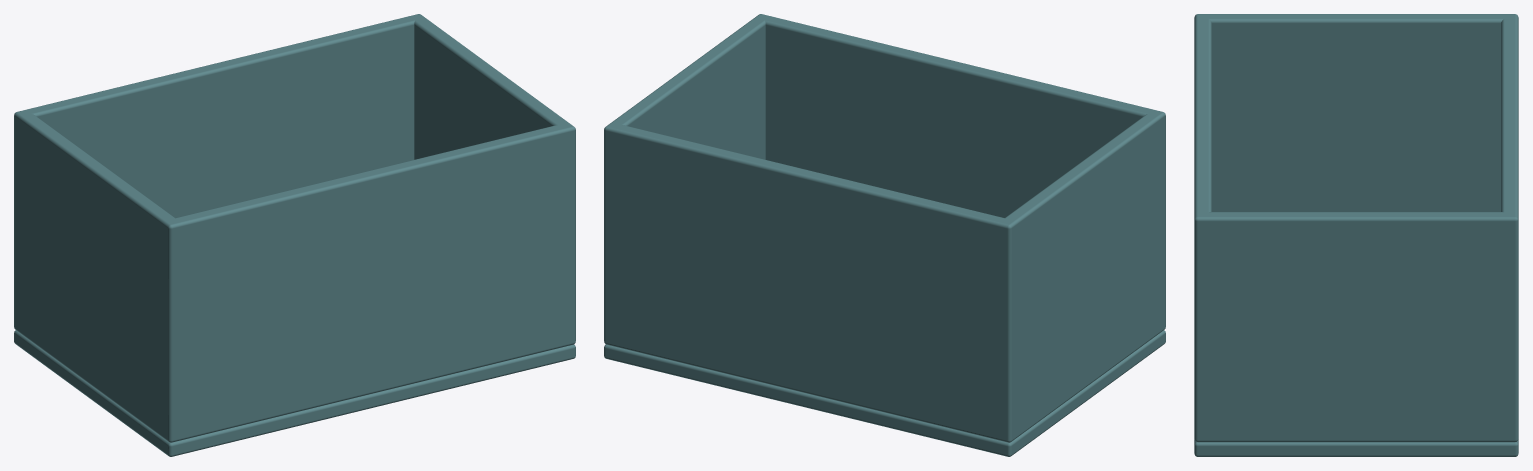
Rendered from candlemaking-and-soap-workshop-offcut-collection-bin-f06807dc__30687.glb.
The picture shows the model from 3 angles, left to right: view 1: azimuth 30°, elevation 25°; view 2: azimuth 150°, elevation 25°; view 3: azimuth 270°, elevation 25°; orthographic projection. The views are drawn at different scales.
Visible parts, largest first — view 1: offcut-collection-bin; view 2: offcut-collection-bin; view 3: offcut-collection-bin.
Part boxes in pixels (x1,y1,x2,y2): offcut-collection-bin: [14, 14, 575, 456]; offcut-collection-bin: [604, 14, 1165, 456]; offcut-collection-bin: [1194, 14, 1518, 456].
Size of the model in its own units: 0.45 by 0.245 by 0.3.
